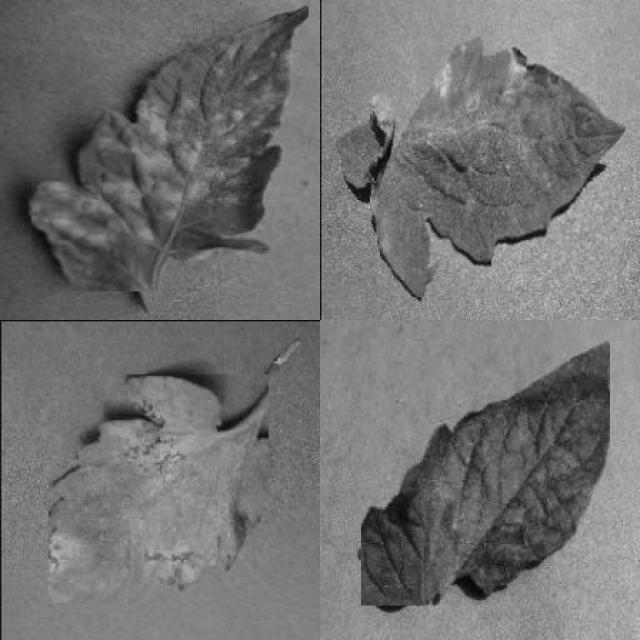Late Blight: (360, 338, 610, 606)
Leaf Mold: (32, 5, 308, 292)
Septoria: (375, 35, 625, 298), (48, 374, 268, 602)
